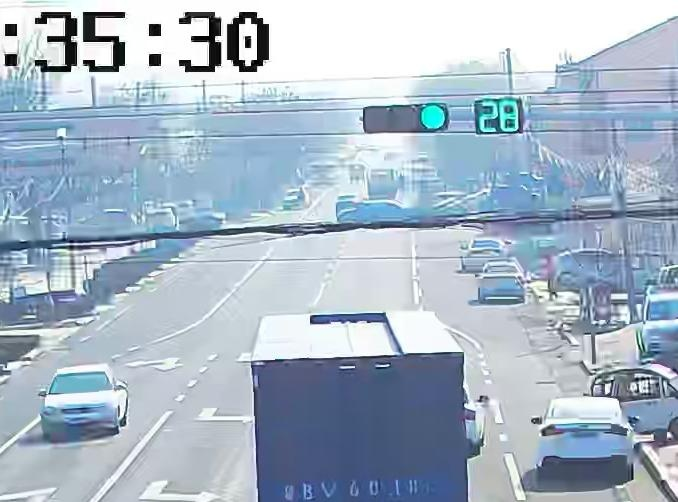green: (418, 104, 448, 131)
greentime: (479, 99, 520, 133)
